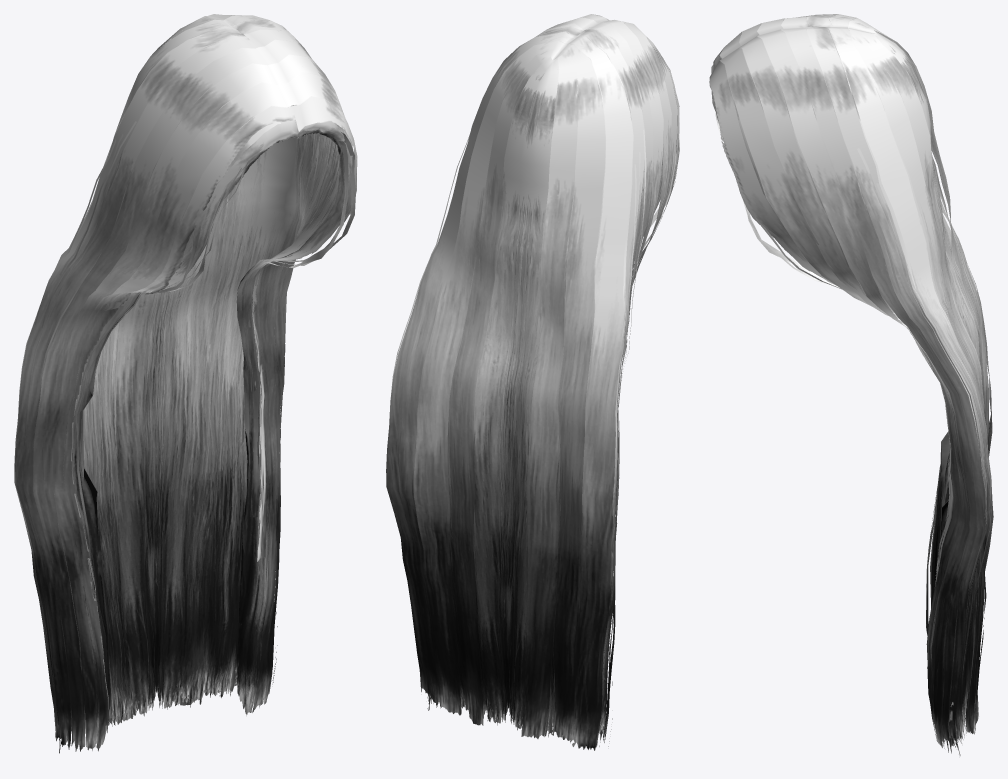
File: long.glb
3 renders of one model, left to right at view 1: azimuth 30°, elevation 25°; view 2: azimuth 150°, elevation 25°; view 3: azimuth 270°, elevation 25°, orthographic. The views are drawn at different scales.
Visible parts, largest first — view 1: long; view 2: long; view 3: long.
Boxes of the visible parts, x1=… form: long: x1=14, y1=14, x2=357, y2=753; long: x1=386, y1=14, x2=679, y2=750; long: x1=709, y1=14, x2=993, y2=755.
Size of the model in its own units: 0.2718 by 0.7476 by 0.2744.
Materials: 1 (1 with a texture image).
